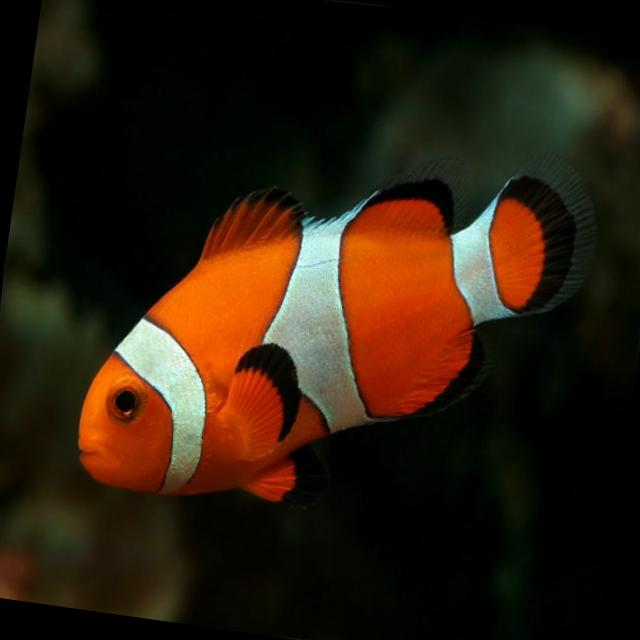ClownFish: (67, 114, 594, 554)
